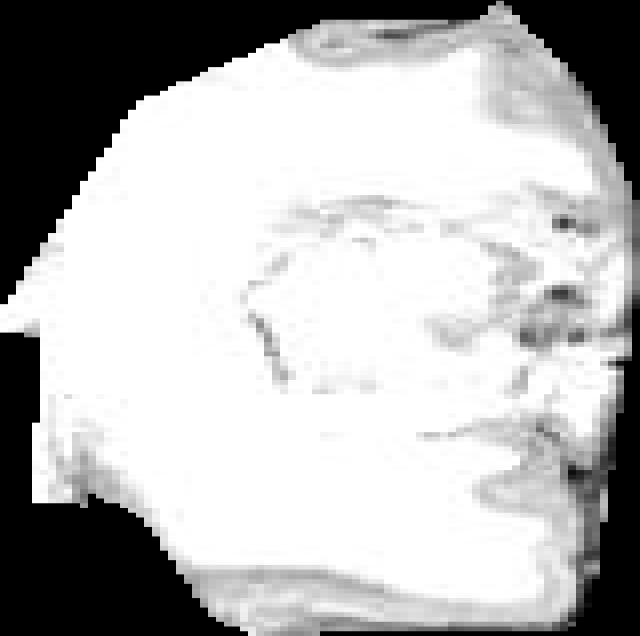tumor_moderate_chance: (0, 1, 640, 636)
